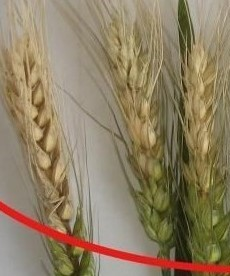Wheat scab: (95, 24, 177, 247), (181, 46, 230, 262)
